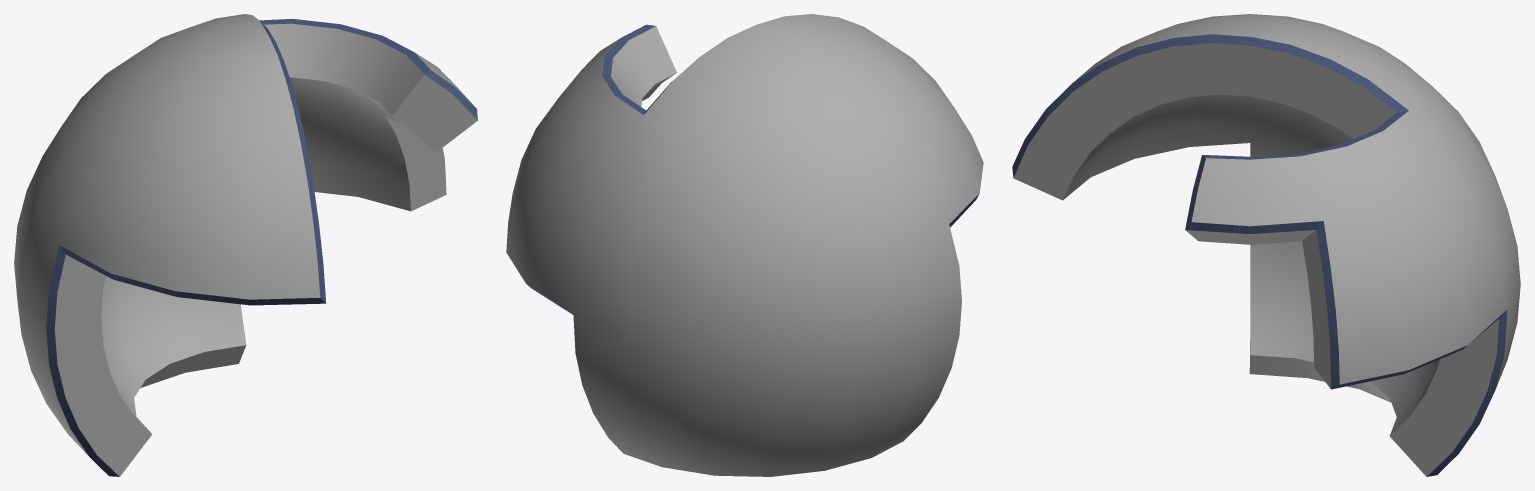
File: Key_1.fbx
The picture shows the model from 3 angles, left to right: view 1: azimuth 30°, elevation 25°; view 2: azimuth 150°, elevation 25°; view 3: azimuth 270°, elevation 25°; orthographic projection. The views are drawn at different scales.
Visible parts, largest first — view 1: Key_4; view 2: Key_4; view 3: Key_4.
Part boxes in pixels (x1,y1,x2,y2): Key_4: (14, 14, 477, 476); Key_4: (506, 14, 983, 476); Key_4: (1012, 14, 1520, 476).
Size of the model in its own units: 2.51 by 2.2 by 2.45.
